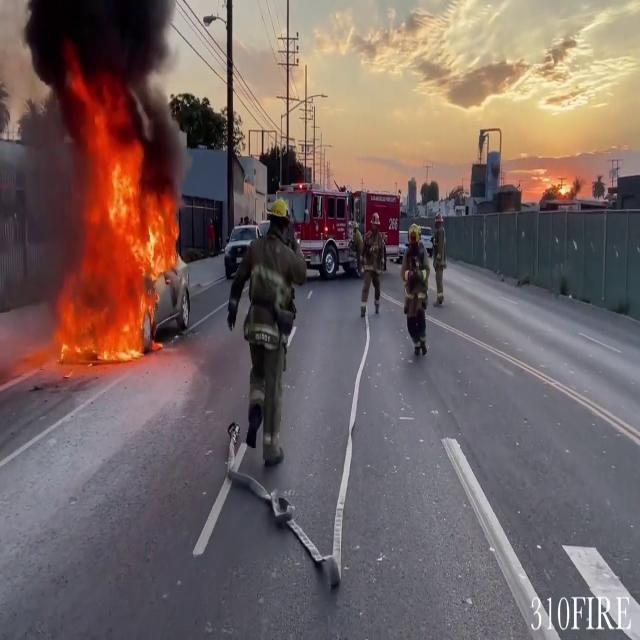Fire: (38, 112, 182, 370)
Smoke: (3, 0, 189, 176)
